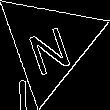N_N: (23, 13, 76, 74)
